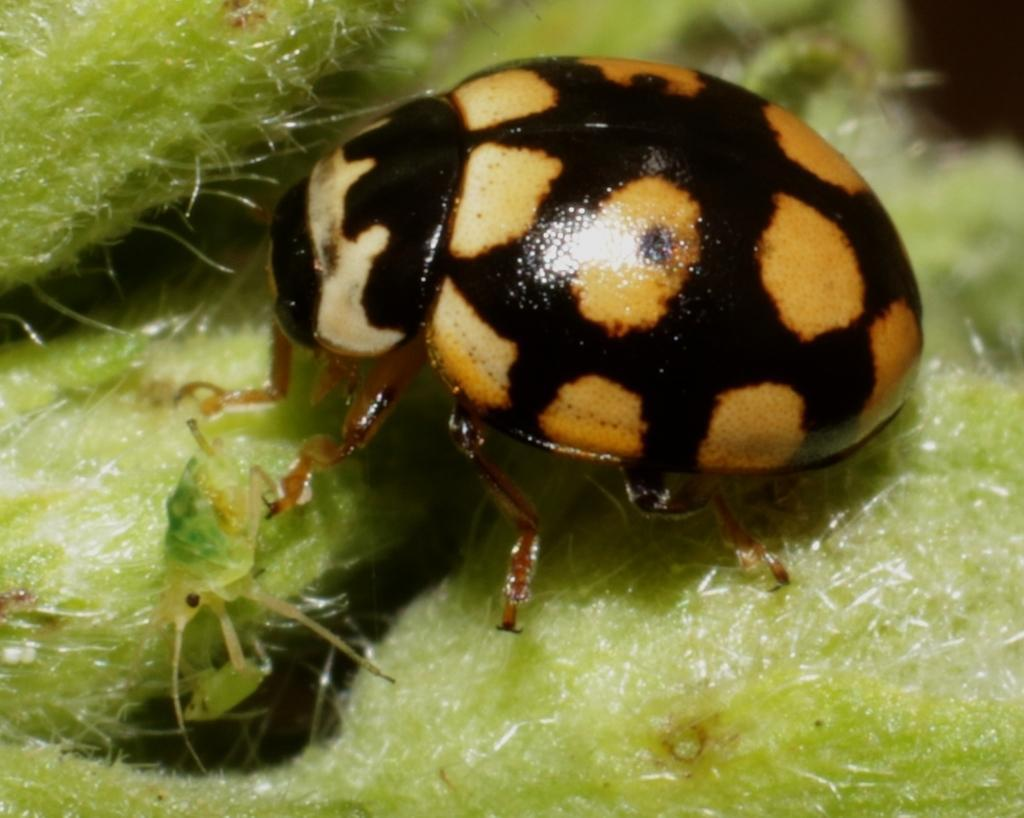ladybug: (196, 51, 929, 636)
